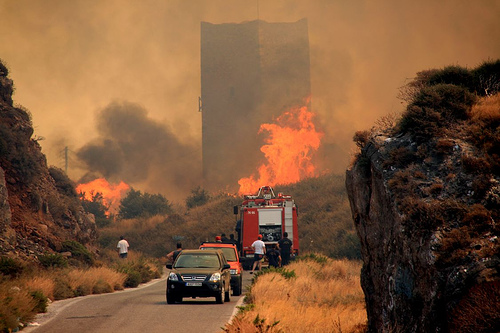fire: (238, 96, 331, 189), (65, 169, 132, 216)
